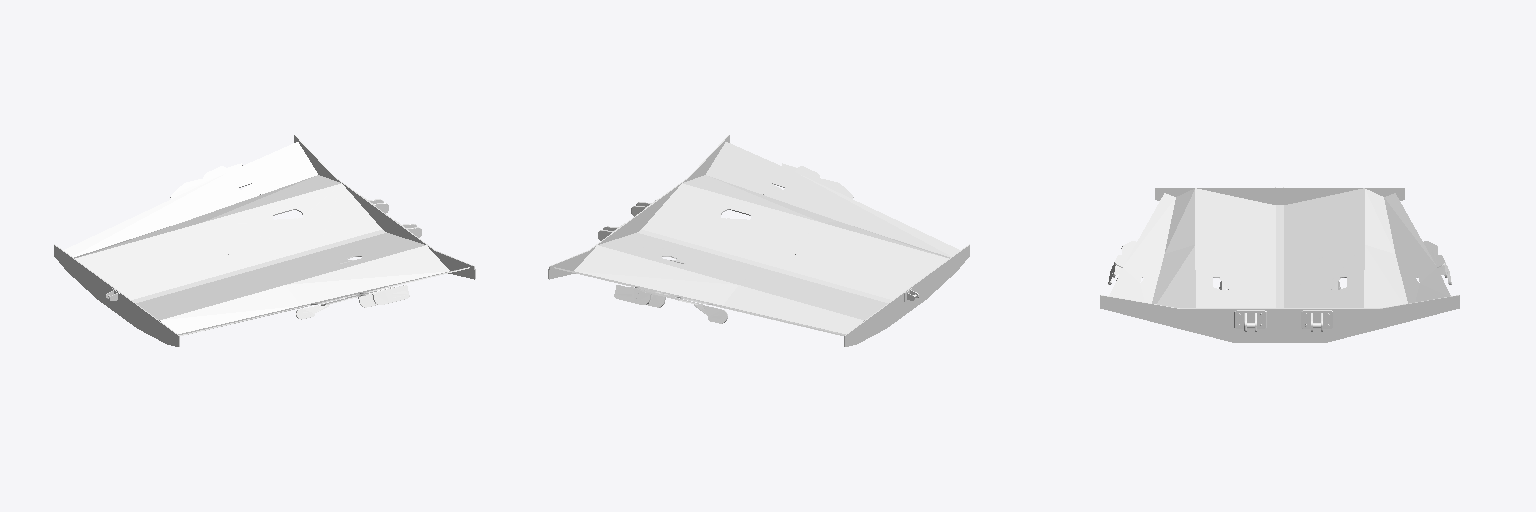
Rendered from support.obj.
3 views of the same model, side by side, from view 1: azimuth 30°, elevation 25°; view 2: azimuth 150°, elevation 25°; view 3: azimuth 270°, elevation 25° (orthographic).
Visible parts, largest first — view 1: piastra_jato01_piastra_jato01.mesh, piastra_jato02_piastra_jato02.mesh, ganci_piastra_jato_ganci_piastra_jato.mesh; view 2: piastra_jato01_piastra_jato01.mesh, piastra_jato02_piastra_jato02.mesh, ganci_piastra_jato_ganci_piastra_jato.mesh; view 3: piastra_jato01_piastra_jato01.mesh, piastra_jato02_piastra_jato02.mesh, staffa_jato_post.sx_staffa_jato_post.sx.mesh, staffa_jato_post.dx_staffa_jato_post.dx.mesh.
Boxes of the visible parts, x1=… form: piastra_jato01_piastra_jato01.mesh: x1=63, y1=142, x2=469, y2=335; piastra_jato02_piastra_jato02.mesh: x1=54, y1=135, x2=475, y2=346; ganci_piastra_jato_ganci_piastra_jato.mesh: x1=203, y1=163, x2=409, y2=319; piastra_jato01_piastra_jato01.mesh: x1=554, y1=142, x2=960, y2=335; piastra_jato02_piastra_jato02.mesh: x1=548, y1=135, x2=969, y2=346; ganci_piastra_jato_ganci_piastra_jato.mesh: x1=614, y1=163, x2=820, y2=323; piastra_jato01_piastra_jato01.mesh: x1=1109, y1=188, x2=1450, y2=307; piastra_jato02_piastra_jato02.mesh: x1=1100, y1=188, x2=1459, y2=342; staffa_jato_post.sx_staffa_jato_post.sx.mesh: x1=1234, y1=310, x2=1266, y2=331; staffa_jato_post.dx_staffa_jato_post.dx.mesh: x1=1301, y1=310, x2=1332, y2=331.
Size of the model in its own units: 941 by 144 by 988.